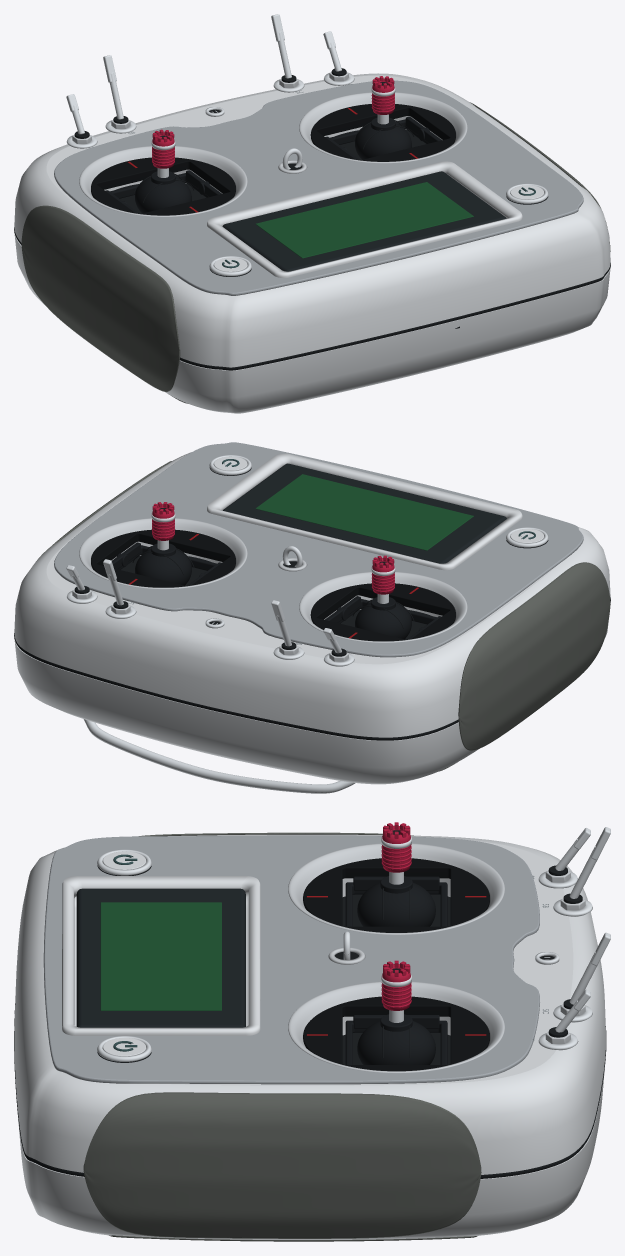
3 views of the same model, one above another, from view 1: azimuth 30°, elevation 25°; view 2: azimuth 150°, elevation 25°; view 3: azimuth 270°, elevation 25° (orthographic). The views are drawn at different scales.
Visible parts, largest first — view 1: shell_front, faceplate, shell_back, side_grip_left, screen, lcd_bezel, lcd_mount, gimbal_face_left, gimbal_face_right, bezel_right, bezel_left, shell_parting_seam (+2 smaller); view 2: shell_front, faceplate, shell_back, side_grip_left, screen, lcd_bezel, lcd_mount, gimbal_face_left, gimbal_face_right, rear_carry_bar, bezel_right, bezel_left (+5 smaller); view 3: side_grip_right, faceplate, shell_front, screen, shell_back, lcd_bezel, lcd_mount, gimbal_face_left, gimbal_face_right, bezel_right, bezel_left, gimbal_drum_left (+15 smaller).
Boxes of the visible parts, x1,y1,x2,y2 form: shell_front: [14, 73, 610, 367]; faceplate: [54, 80, 583, 295]; shell_back: [14, 234, 610, 413]; side_grip_left: [21, 205, 180, 391]; screen: [255, 182, 473, 258]; lcd_bezel: [222, 171, 506, 271]; lcd_mount: [207, 161, 522, 277]; gimbal_face_left: [91, 157, 235, 215]; gimbal_face_right: [310, 104, 455, 161]; bezel_right: [299, 92, 467, 163]; bezel_left: [79, 146, 247, 216]; shell_parting_seam: [14, 227, 610, 370]; shell_front: [14, 452, 610, 737]; faceplate: [54, 442, 583, 657]; shell_back: [14, 603, 610, 784]; side_grip_left: [458, 562, 610, 750]; screen: [255, 474, 473, 550]; lcd_bezel: [223, 463, 506, 563]; lcd_mount: [207, 453, 522, 570]; gimbal_face_left: [310, 583, 455, 641]; gimbal_face_right: [91, 529, 235, 587]; rear_carry_bar: [83, 719, 355, 793]; bezel_right: [79, 518, 247, 589]; bezel_left: [299, 571, 467, 642]; side_grip_right: [83, 1092, 481, 1238]; faceplate: [43, 835, 539, 1084]; shell_front: [14, 834, 605, 1174]; screen: [100, 902, 221, 1010]; shell_back: [18, 1070, 604, 1239]; lcd_bezel: [76, 888, 245, 1027]; lcd_mount: [62, 876, 260, 1035]; gimbal_face_left: [303, 858, 489, 932]; gimbal_face_right: [303, 996, 489, 1071]; bezel_right: [288, 981, 504, 1073]; bezel_left: [288, 843, 504, 934]; gimbal_drum_left: [357, 882, 435, 926].
Bounding box in the file's own units: 0.1817 × 0.0812 × 0.1624.
